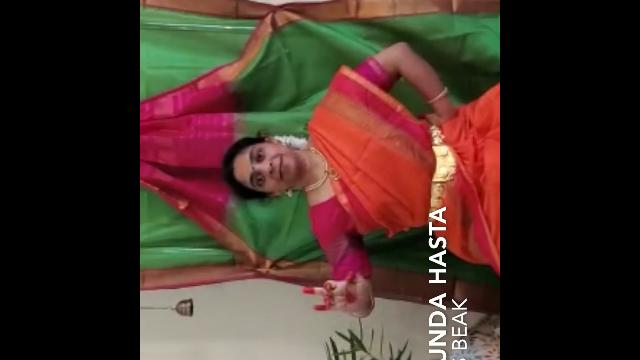shuktund: (295, 262, 385, 326)
